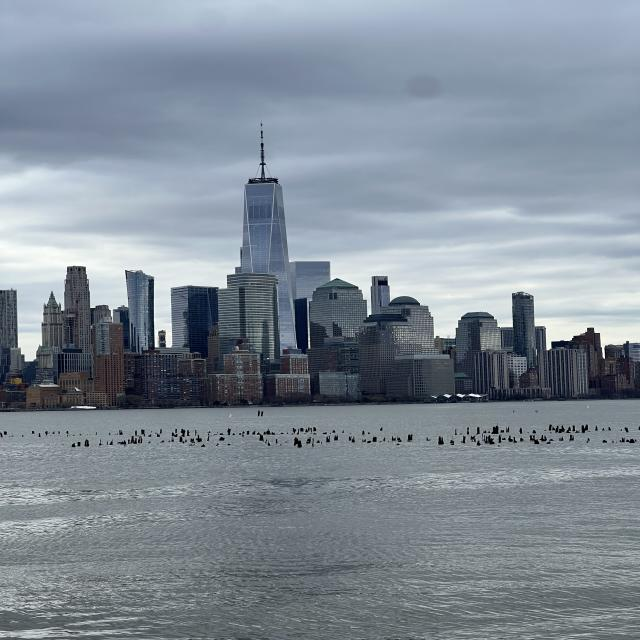WTC: (239, 121, 292, 283)
